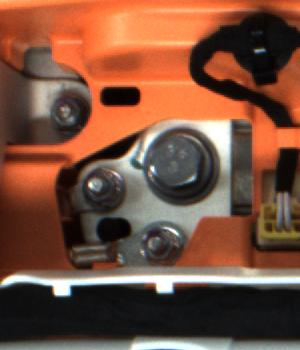nut_b: (137, 129, 232, 209)
screw_s: (139, 221, 180, 264), (43, 91, 83, 134), (86, 168, 114, 207)
